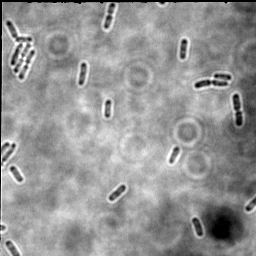Dividing: (101, 1, 119, 32), (230, 92, 245, 128), (192, 77, 230, 90)
Microcolony: (5, 20, 38, 81)
Rod: (106, 183, 128, 203), (76, 60, 89, 88), (166, 145, 182, 167), (177, 37, 190, 62), (190, 216, 204, 239), (9, 165, 25, 185), (102, 98, 113, 119), (212, 71, 234, 81)
